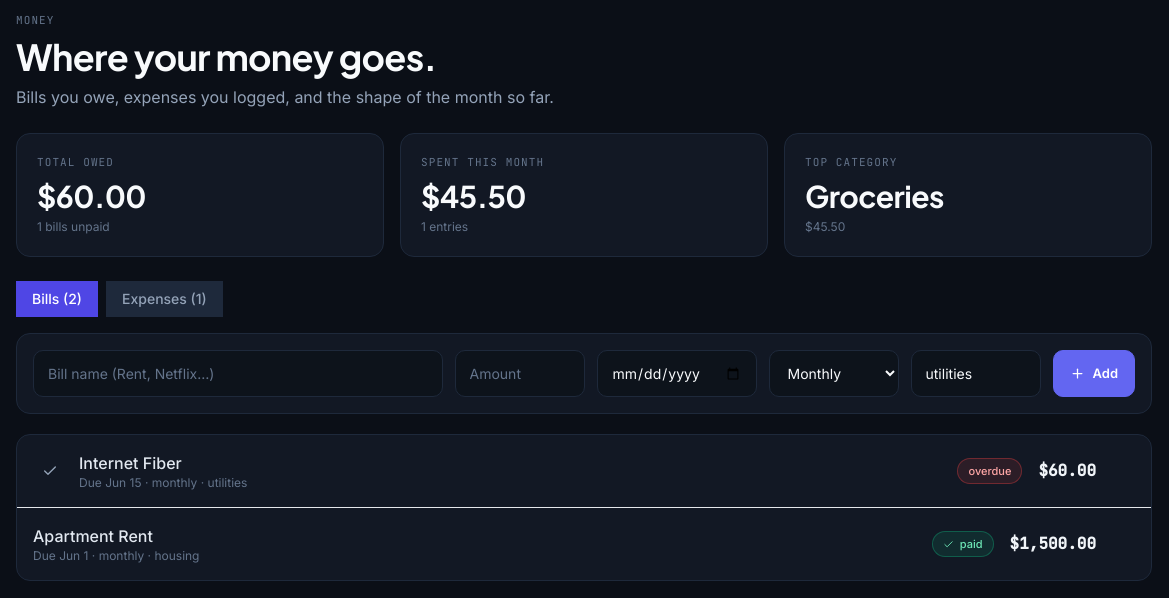
Money Page › switches between bills and expenses tabs
The width and height of the screenshot is (1169, 598).
What coordinates should you click on to do the following:
click the button with test id "tab-expenses"
I would click on:
 (164, 299)
Its box is left=106, top=281, right=223, bottom=317.
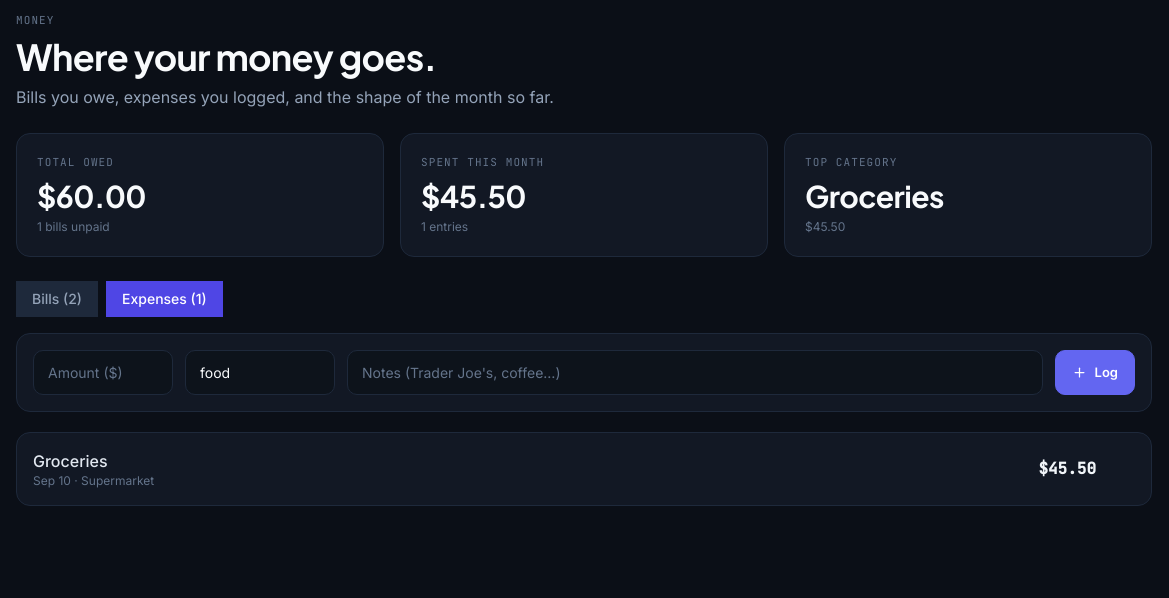
Expected: the element with test id "expenses-list" is shown, left=16, top=432, right=1152, bottom=506
Result: the text "Supermarket" is shown at left=74, top=473, right=154, bottom=488
What coordinates should you click on to do the following:
click the button with test id "tab-bills"
I would click on:
 (57, 299)
Its box is left=16, top=281, right=98, bottom=317.
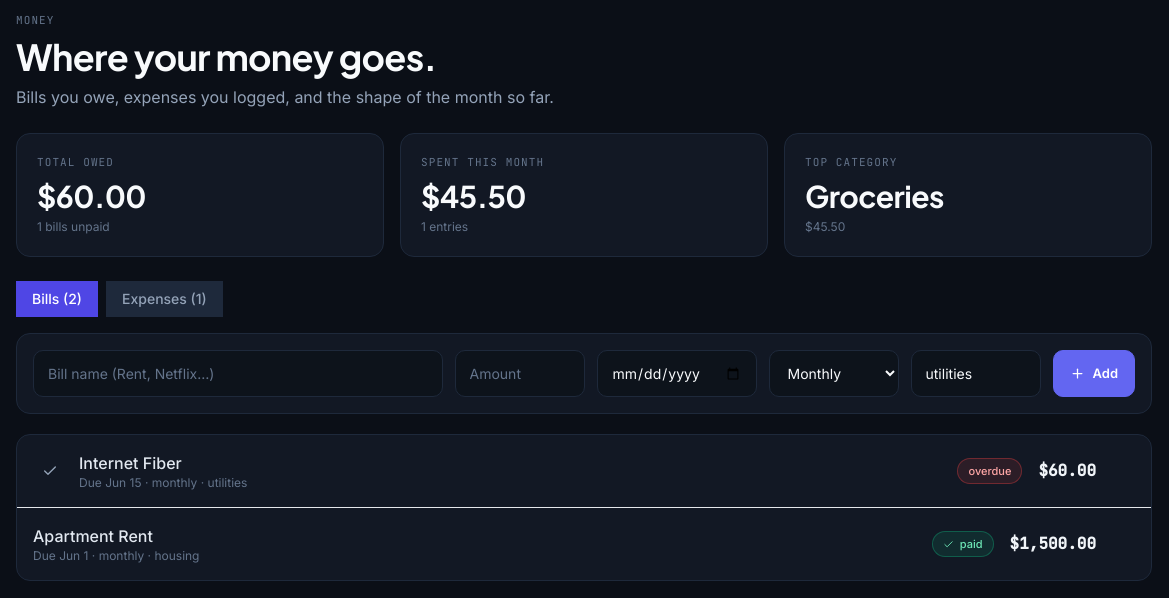
Expected: the element with test id "expenses-list" is shown, left=16, top=434, right=1152, bottom=581
Result: the text "Internet Fiber" is shown at left=79, top=453, right=182, bottom=473
